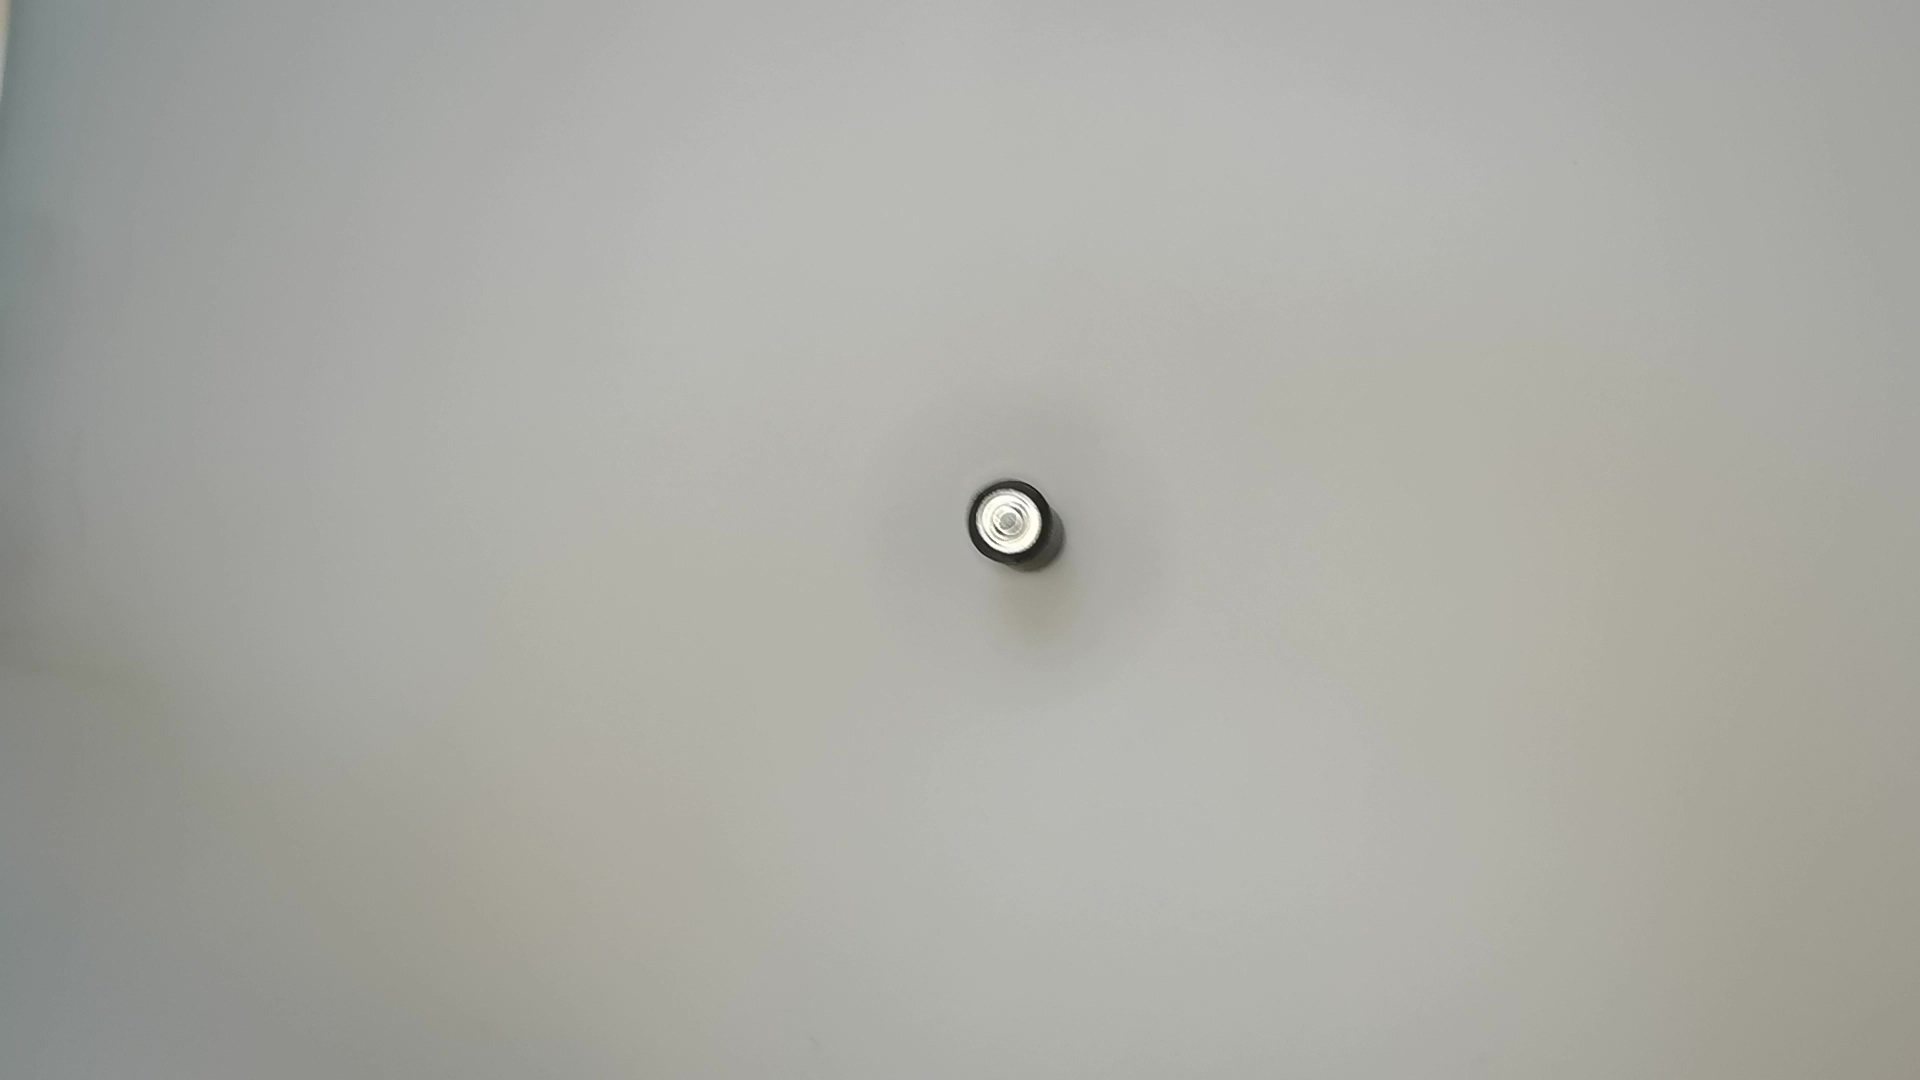battery: (963, 467, 1075, 582)
